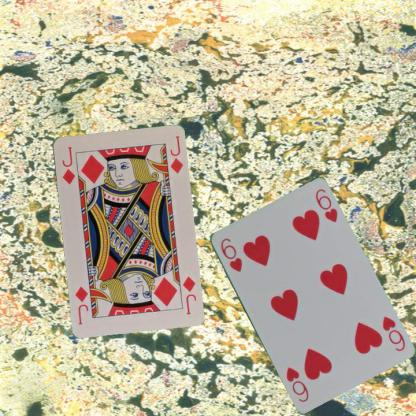6h: (379, 313, 406, 353), (217, 235, 243, 273)
Jd: (179, 274, 198, 316), (59, 144, 76, 186)
